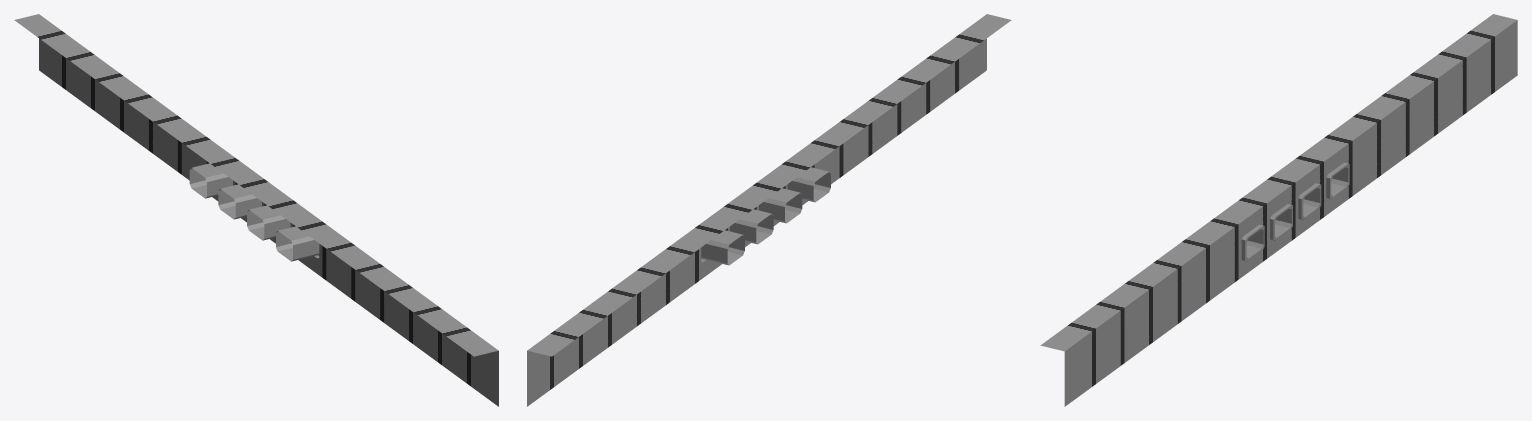
Rendered from Duct.fbx.
3 renders of one model, left to right at view 1: azimuth 30°, elevation 25°; view 2: azimuth 150°, elevation 25°; view 3: azimuth 330°, elevation 25°, orthographic.
Visible parts, largest first — view 1: polySurface6; view 2: polySurface6; view 3: polySurface6.
Boxes of the visible parts, x1,y1,x2,y2 form: polySurface6: (14,14,498,406); polySurface6: (527,14,1011,406); polySurface6: (1040,14,1517,406).
Size of the model in its own units: 1.44 by 2.71 by 40.07.
